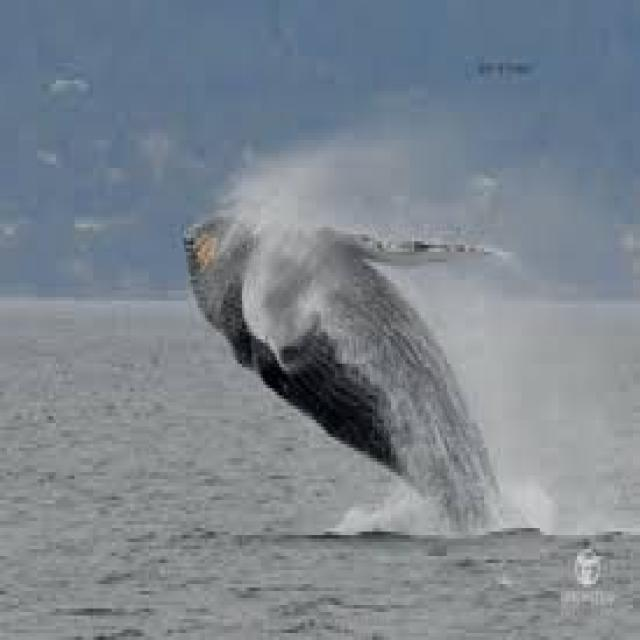whale: (184, 217, 498, 525)
